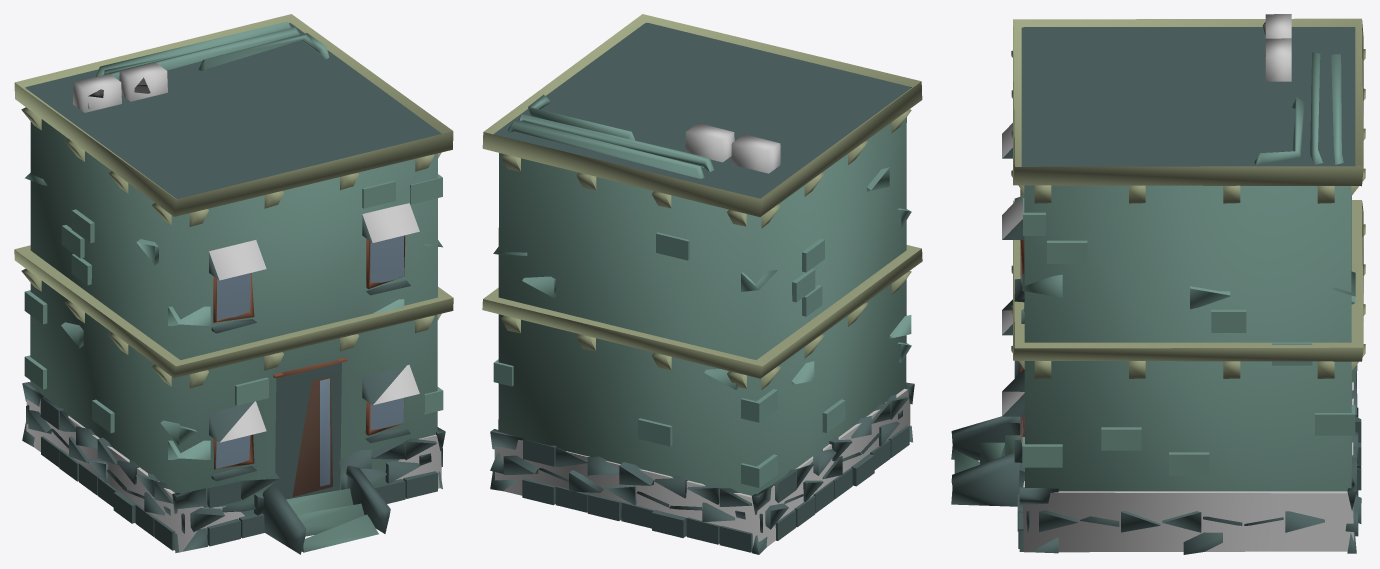
The model's file is small-building-a.low.glb.
The picture shows the model from 3 angles, left to right: view 1: azimuth 30°, elevation 25°; view 2: azimuth 150°, elevation 25°; view 3: azimuth 270°, elevation 25°; orthographic projection. The views are drawn at different scales.
Parts seen in each view (by area): view 1: 2Story_Mat; view 2: 2Story_Mat; view 3: 2Story_Mat.
Part boxes in pixels (x1,y1,x2,y2): 2Story_Mat: (14,14,453,554); 2Story_Mat: (482,14,922,554); 2Story_Mat: (951,14,1365,554).
Bounding box in the file's own units: 2.17 × 2.74 × 2.52.
